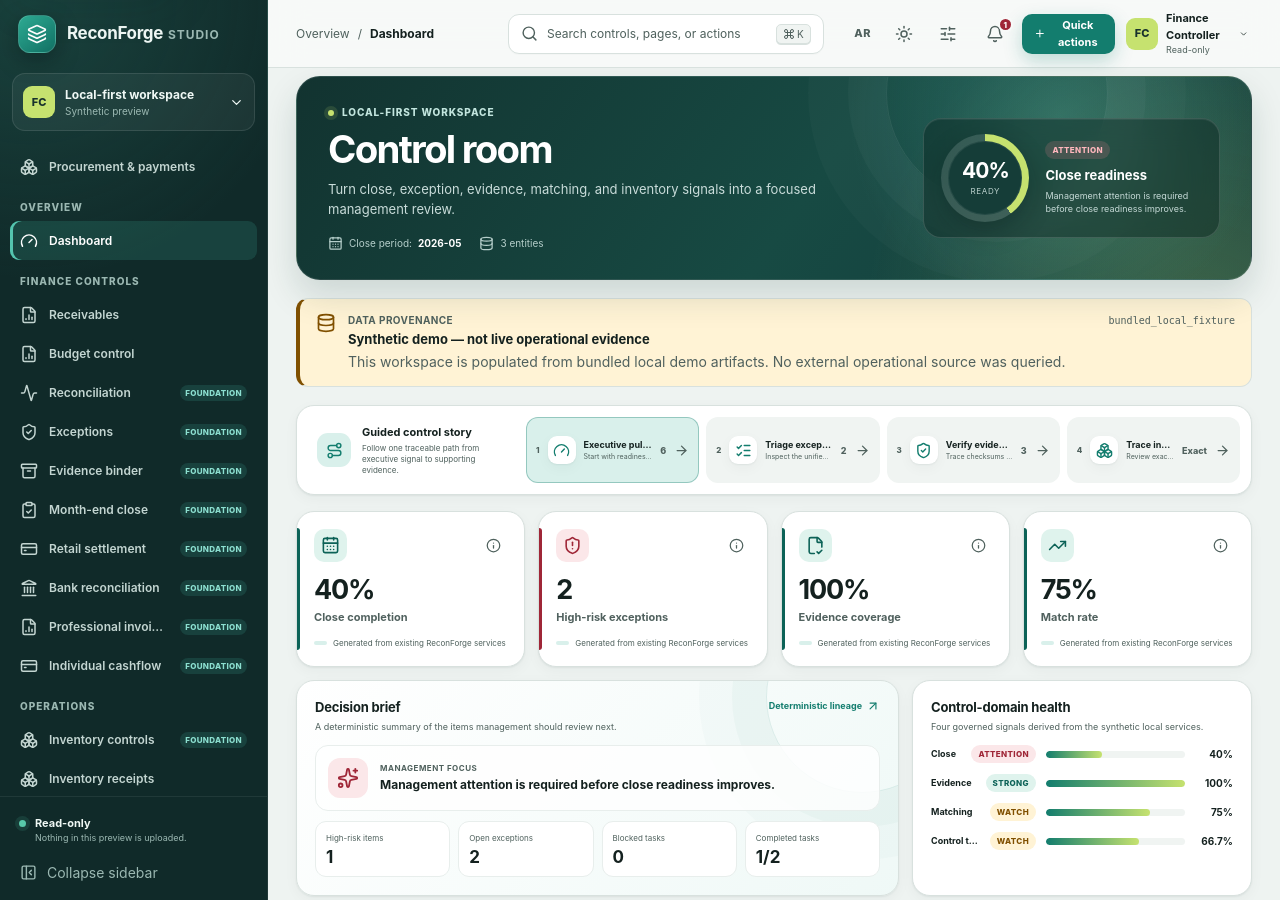
Test: navigates to the native evidence binder without exposing source paths
The image size is (1280, 900).
(page scrolled)
Click the button "Evidence binder Foundation": x=134, y=470 [10,451,257,490]
(page scrolled)
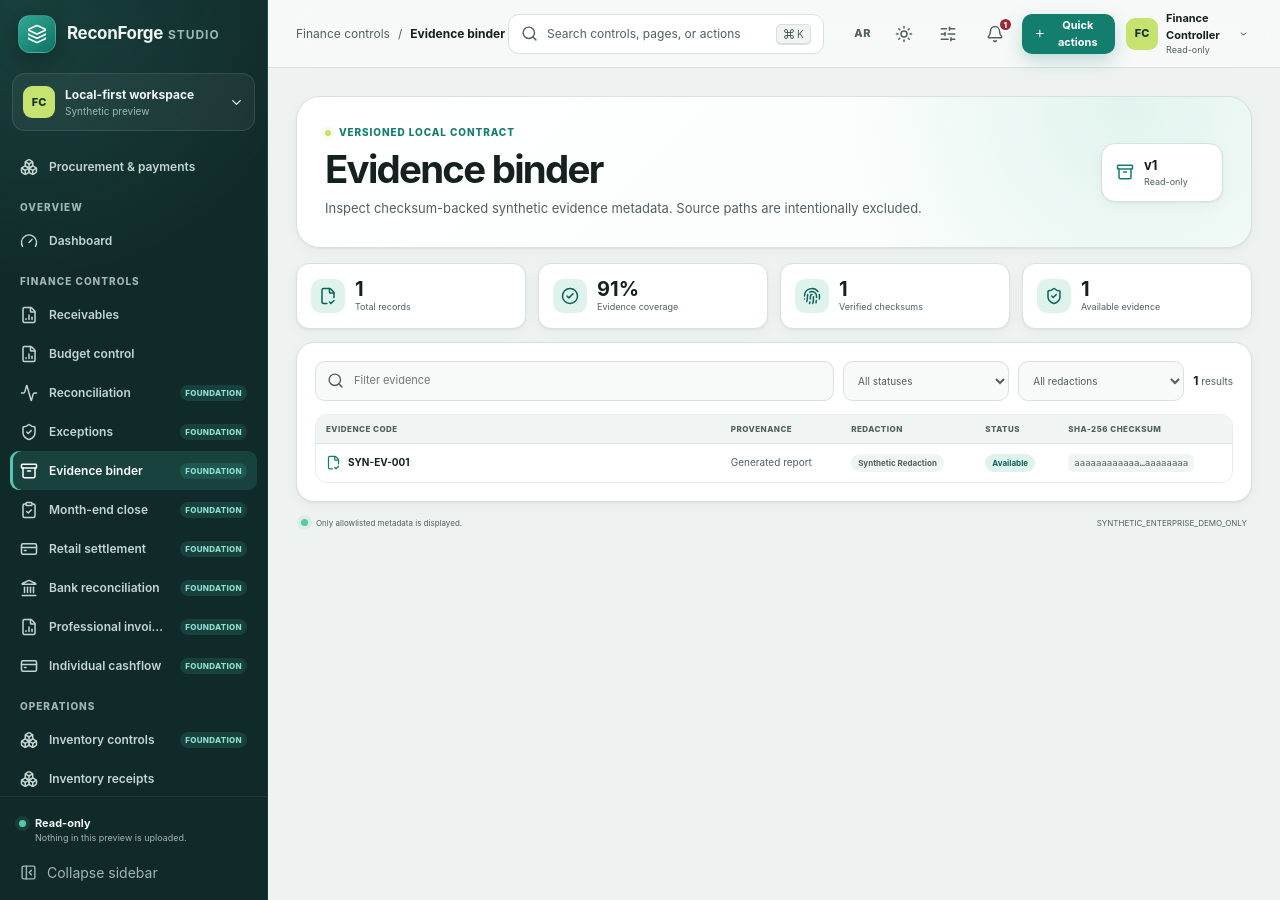
Now the heading "Evidence binder" is shown, box [325,146,603,192]
Now the text "SYN-EV-001" is shown, box [326,455,410,470]
Now the text "aaaaaaaaaaaa…aaaaaaaa" is shown, box [1068,454,1194,472]
